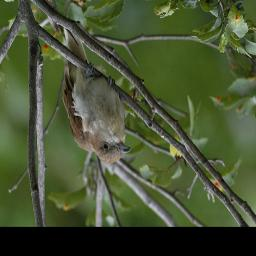Cuckoo: (61, 27, 131, 165)
